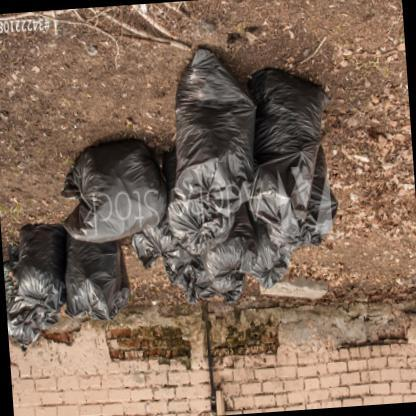Garbage: (145, 42, 287, 293), (148, 37, 251, 275), (218, 62, 334, 260), (1, 218, 142, 350), (54, 131, 188, 242)
